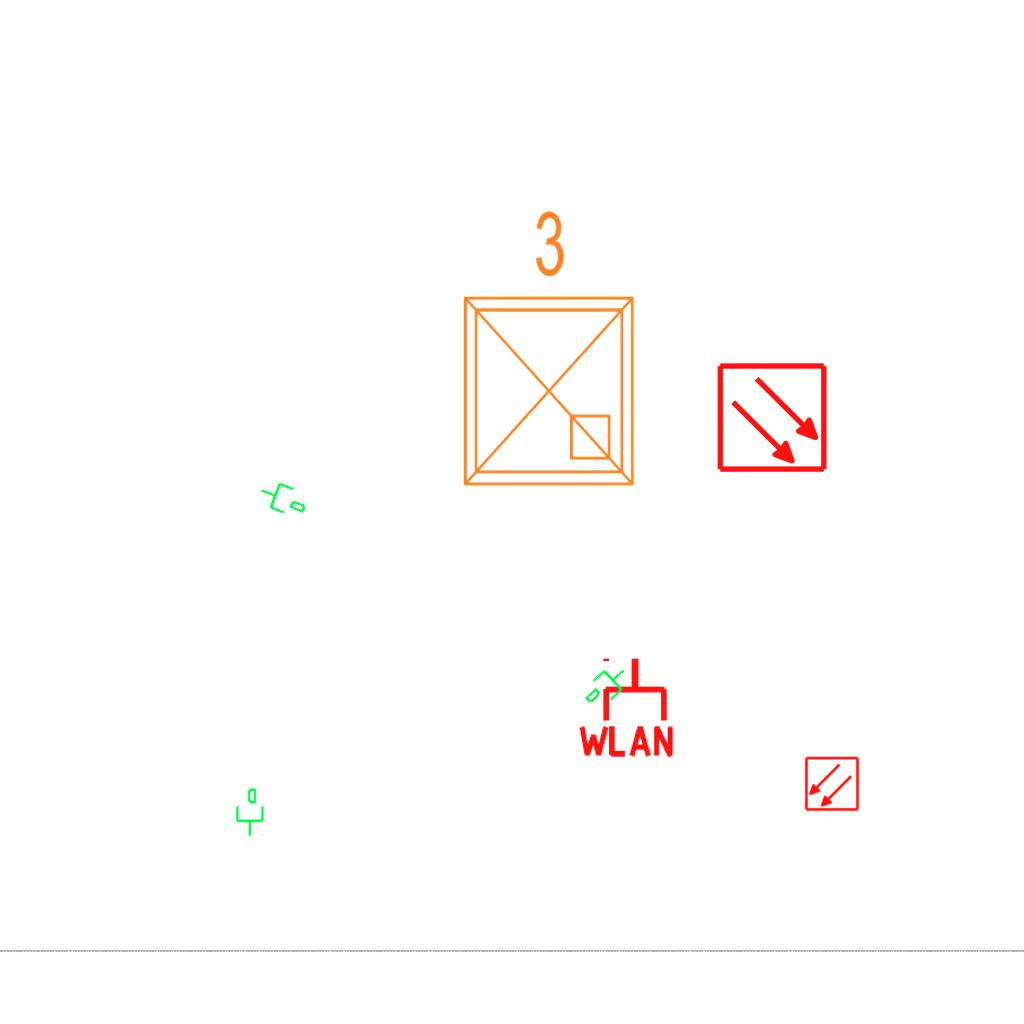Datenanschluss_einfach: (577, 657, 637, 717), (254, 473, 314, 523), (232, 787, 266, 837)
Einbaudownlights_LED_Konferenzraeume: (441, 200, 649, 500)
RMO_Rauchmelder_optischer: (716, 361, 829, 474), (804, 756, 860, 812)
WLAN: (574, 654, 678, 759)
